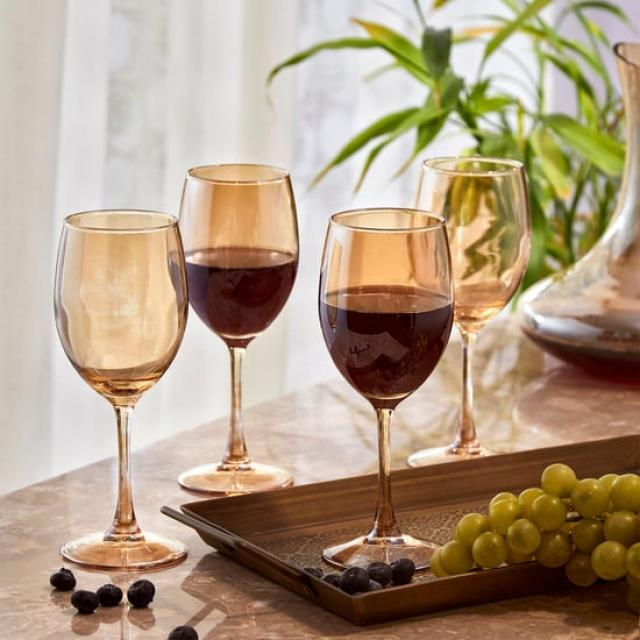glass: (283, 195, 478, 597), (37, 194, 213, 587), (165, 153, 321, 522), (403, 134, 553, 483)
